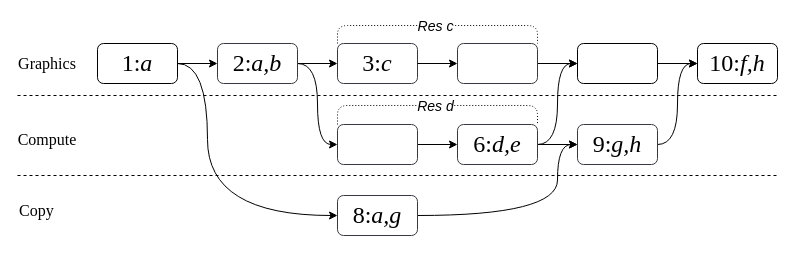
Image size: 796x253. Some labels were removed from this diagram. Here are the shapes that lost their labels. From the top down, the centre of each, then its label:
(497,63): 4:c ,f
(617,63): 7: e, f
(377,144): 5: b,d
